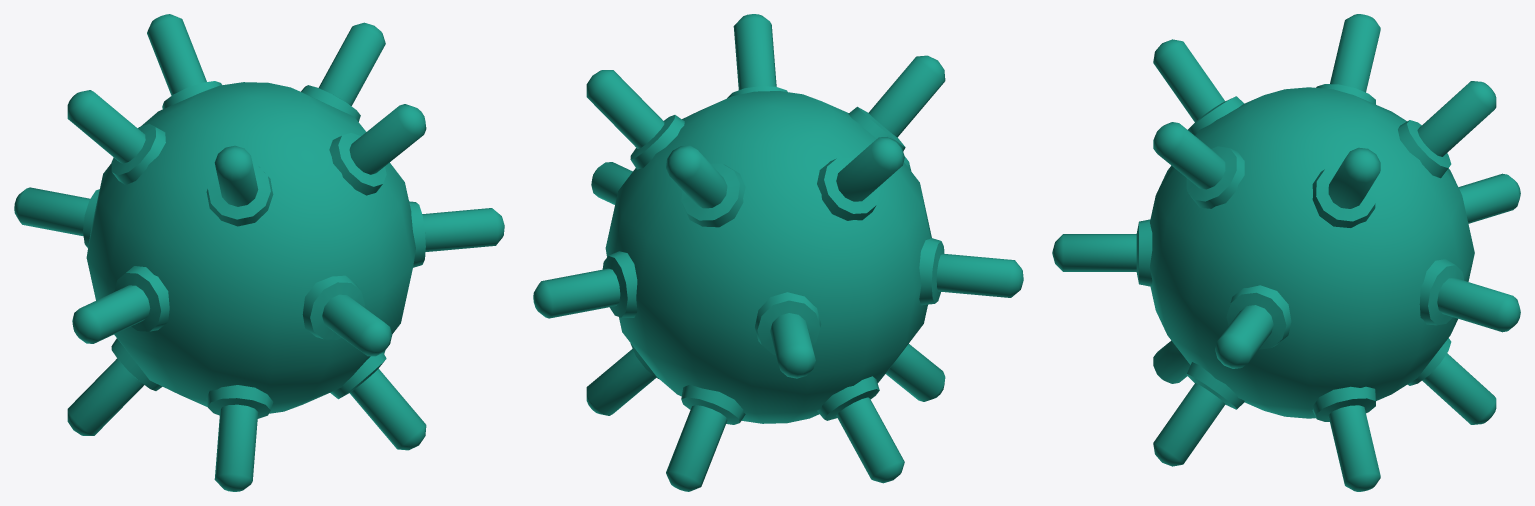
File: mina_002.fbx
3 views of the same model, side by side, from view 1: azimuth 30°, elevation 25°; view 2: azimuth 150°, elevation 25°; view 3: azimuth 270°, elevation 25° (orthographic).
Visible parts, largest first — view 1: Sphere; view 2: Sphere; view 3: Sphere.
Boxes of the visible parts, x1=… form: Sphere: x1=14, y1=14, x2=504, y2=491; Sphere: x1=533, y1=14, x2=1023, y2=491; Sphere: x1=1052, y1=14, x2=1520, y2=491.
Bounding box in the file's own units: 295 × 226 × 283.
